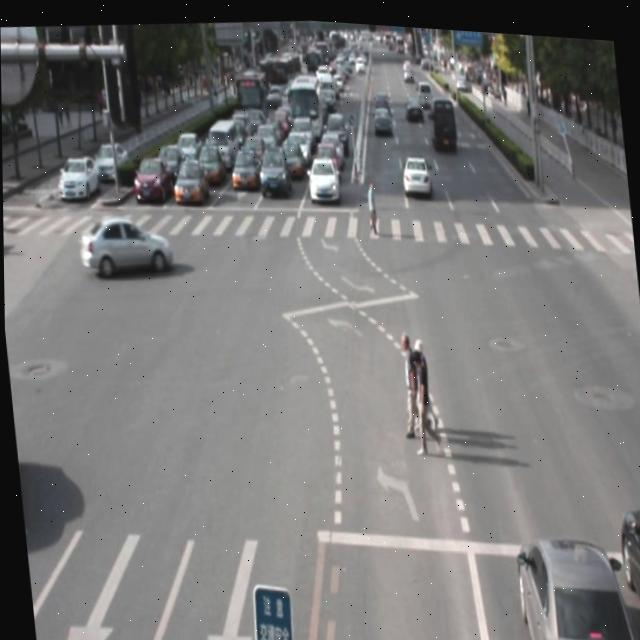car: (508, 522, 630, 640), (76, 205, 173, 280), (608, 497, 640, 640)
